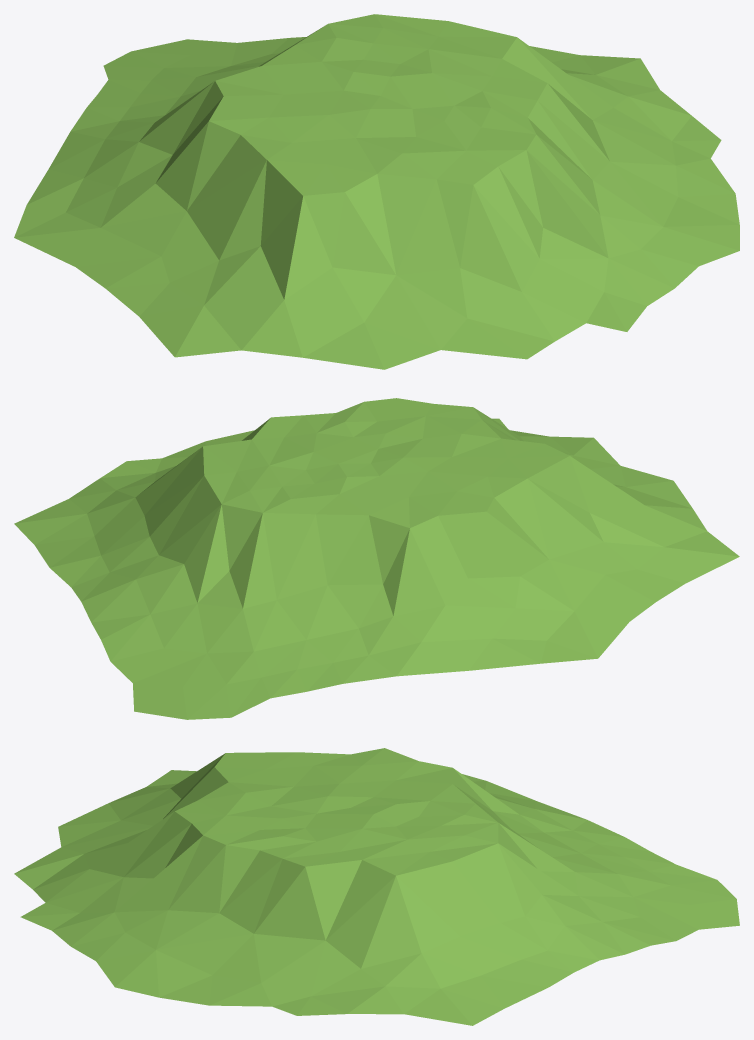
The model's file is MT_Mountain_L_b_17.fbx.
3 views of the same model, one above another, from view 1: azimuth 30°, elevation 25°; view 2: azimuth 150°, elevation 25°; view 3: azimuth 270°, elevation 25° (orthographic). The views are drawn at different scales.
Parts seen in each view (by area): view 1: MT_Mountain_L_b_17; view 2: MT_Mountain_L_b_17; view 3: MT_Mountain_L_b_17.
Part boxes in pixels (x1=…): MT_Mountain_L_b_17: x1=14, y1=14, x2=739, y2=369; MT_Mountain_L_b_17: x1=14, y1=398, x2=739, y2=719; MT_Mountain_L_b_17: x1=14, y1=748, x2=739, y2=1025.
Bounding box in the file's own units: 4145 × 774 × 4798.
